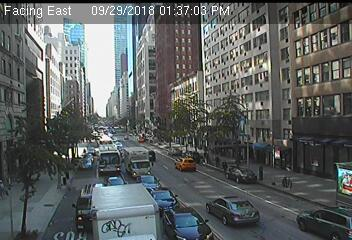car: (89, 184, 163, 240), (296, 205, 352, 239), (205, 194, 259, 226), (161, 208, 212, 240), (73, 185, 107, 232), (122, 148, 151, 178), (147, 187, 178, 213), (98, 144, 122, 176), (132, 174, 162, 193), (225, 167, 256, 185), (104, 175, 128, 193), (174, 157, 195, 171), (182, 150, 201, 163), (167, 148, 183, 158), (79, 159, 91, 170), (82, 153, 92, 162)
